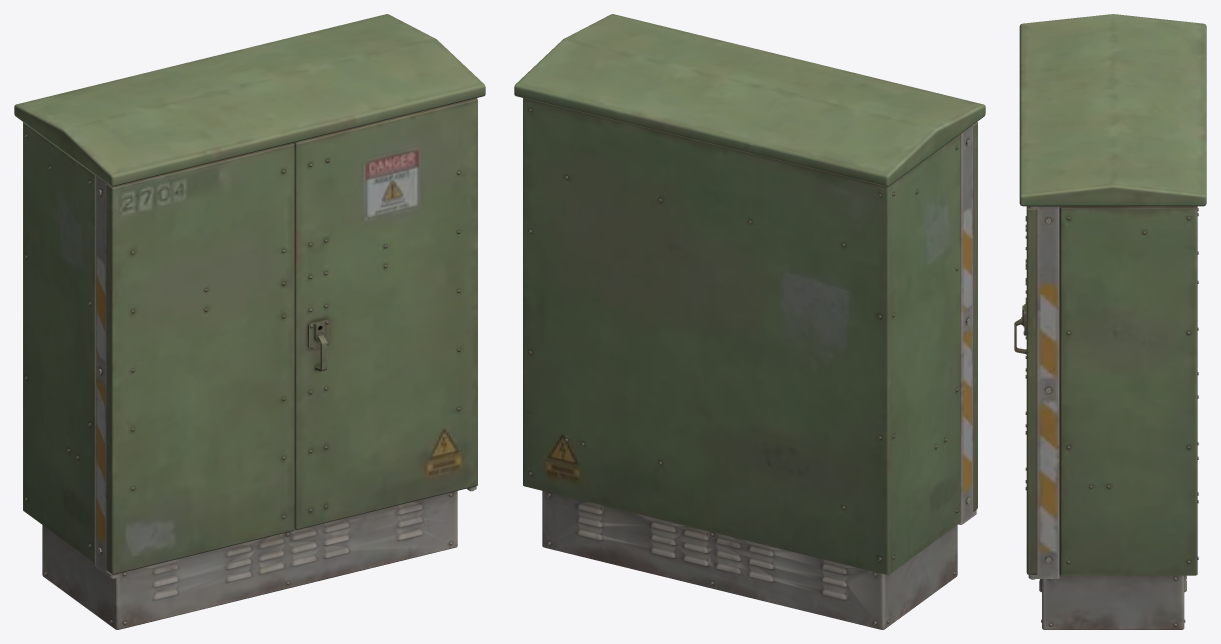
Rendered from utility_box_02.glb.
The picture shows the model from 3 angles, left to right: view 1: azimuth 30°, elevation 25°; view 2: azimuth 150°, elevation 25°; view 3: azimuth 270°, elevation 25°; orthographic projection. The views are drawn at different scales.
Visible parts, largest first — view 1: utility_box_02; view 2: utility_box_02; view 3: utility_box_02.
Part boxes in pixels (box(x1,y1,x2,y2)): utility_box_02: box(14, 14, 485, 629); utility_box_02: box(514, 14, 985, 629); utility_box_02: box(1014, 14, 1206, 629).
Size of the model in its own units: 0.92 by 1.12 by 0.4319.
Materials: 1 (1 with a texture image).
